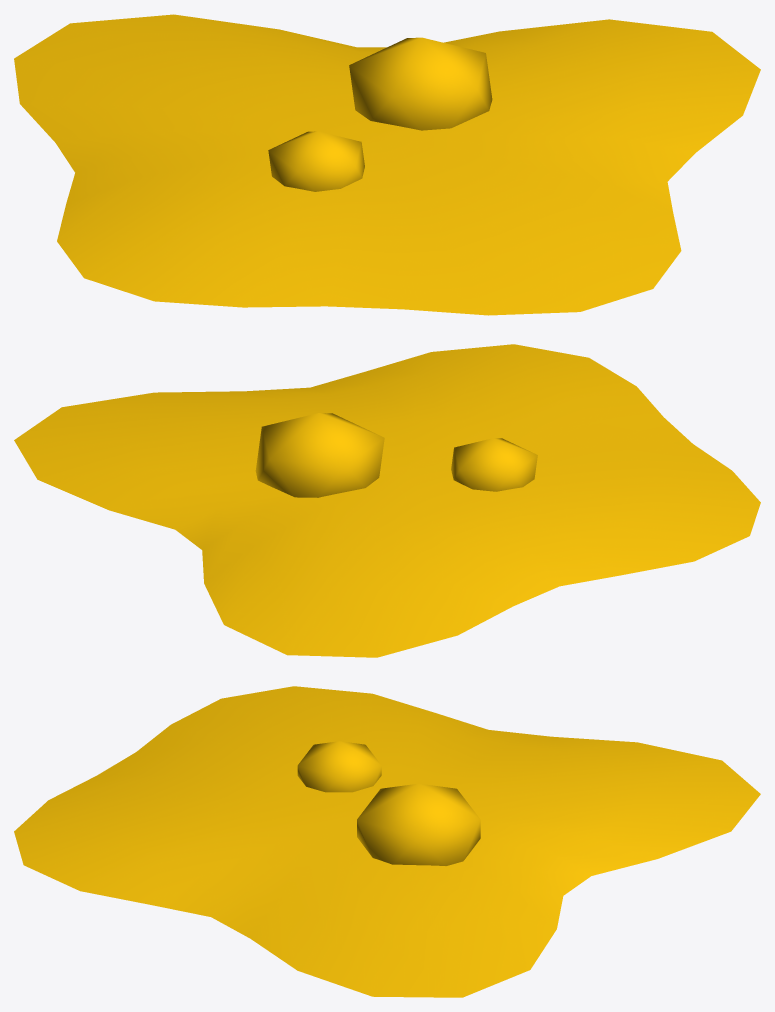
File: w3_06_cheese.glb
3 views of the same model, one above another, from view 1: azimuth 30°, elevation 25°; view 2: azimuth 150°, elevation 25°; view 3: azimuth 270°, elevation 25° (orthographic). The views are drawn at different scales.
Visible parts, largest first — view 1: W3_06_Cheese; view 2: W3_06_Cheese; view 3: W3_06_Cheese.
Part boxes in pixels (x1,y1,x2,y2): W3_06_Cheese: (14,14,760,315); W3_06_Cheese: (14,344,760,657); W3_06_Cheese: (14,686,760,997).
Bounding box in the file's own units: 2.24 × 0.33 × 2.26.
Materials: 1 (1 with a texture image).
